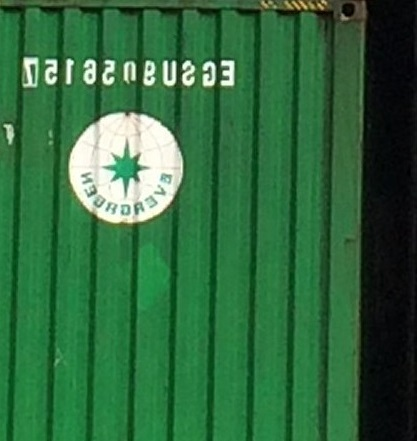container_no_door: (1, 3, 366, 439)
